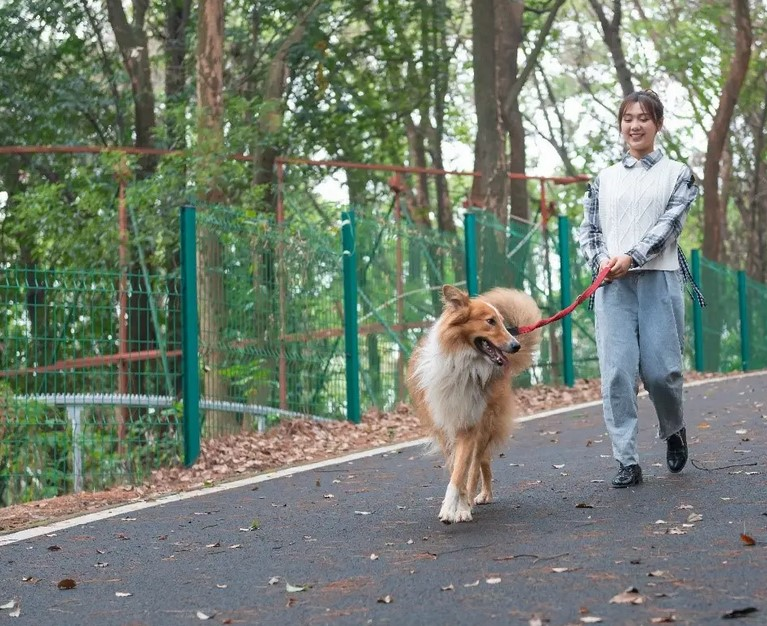dog: (407, 283, 542, 525)
